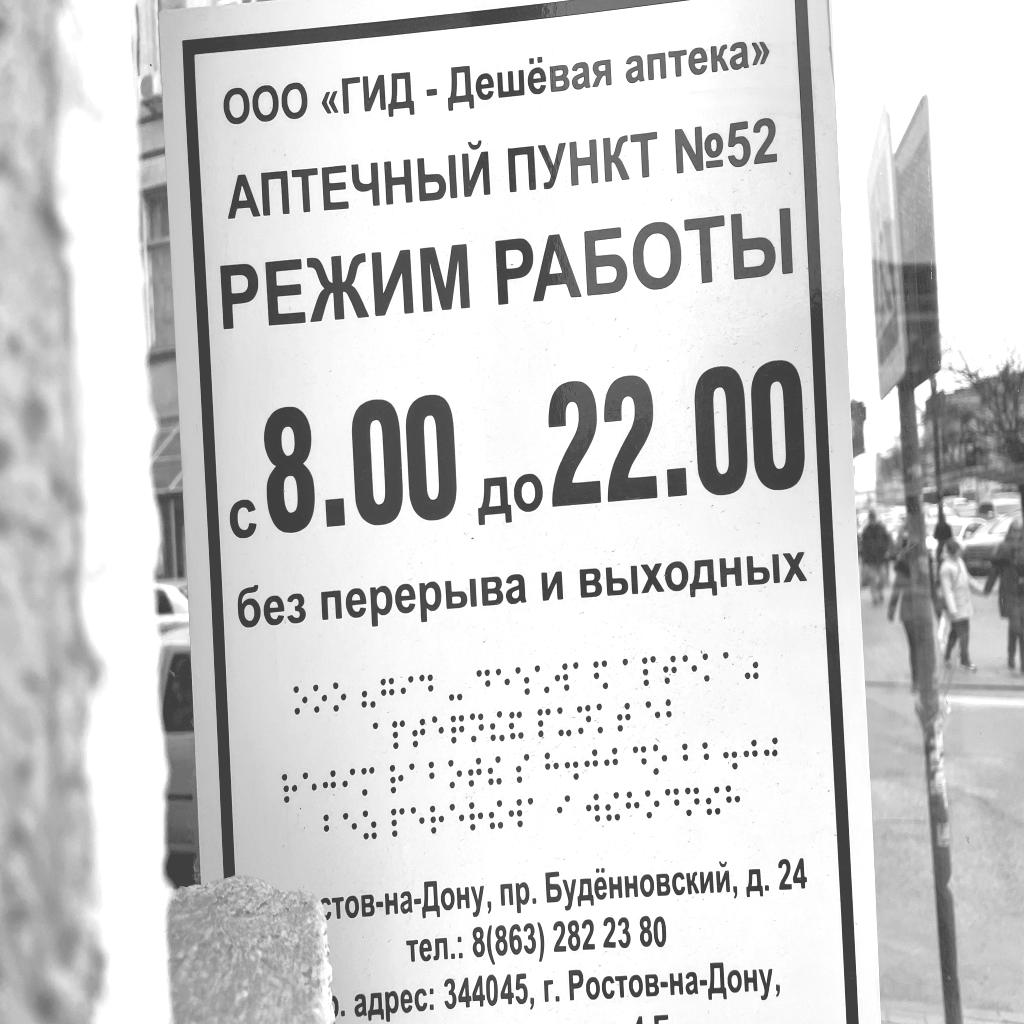_n: (576, 704, 592, 736), (469, 712, 485, 743), (685, 786, 701, 817)
_y: (557, 705, 573, 738)
a: (409, 762, 425, 794), (722, 651, 738, 682), (372, 721, 387, 752), (573, 661, 588, 691), (622, 657, 637, 687), (527, 796, 542, 826)
b: (428, 760, 444, 792), (324, 814, 339, 844)
ch: (450, 714, 465, 745)
d: (632, 745, 648, 776), (419, 673, 434, 704), (476, 668, 491, 699), (665, 787, 680, 818)
defis: (448, 671, 464, 702)
e: (302, 771, 318, 805), (682, 653, 698, 685), (449, 802, 465, 833), (410, 805, 425, 836), (343, 813, 358, 843), (495, 668, 510, 697), (431, 715, 445, 745)
g: (380, 677, 396, 708)
gh: (322, 769, 337, 801)
i: (399, 675, 414, 706), (342, 767, 356, 800), (557, 794, 571, 824)
iKratkoe: (509, 710, 525, 741)
ii: (489, 710, 505, 743), (706, 785, 722, 817), (487, 755, 503, 786), (489, 799, 505, 830), (605, 791, 621, 822)
k: (596, 702, 612, 735), (702, 652, 718, 684)
kavichki1: (361, 677, 376, 710)
kavichki2: (745, 648, 760, 681)
m: (361, 766, 377, 798)
o: (652, 743, 668, 776), (644, 789, 661, 820), (292, 684, 308, 716), (447, 759, 463, 790), (332, 681, 347, 714), (313, 683, 328, 715)
p: (641, 655, 657, 689), (391, 719, 406, 751), (391, 807, 406, 838), (537, 708, 551, 739)
r: (389, 764, 405, 797), (281, 773, 298, 804), (429, 804, 445, 835), (468, 801, 484, 832)
s: (515, 753, 530, 785)
sh: (515, 665, 531, 696)
t: (411, 717, 426, 750), (616, 702, 631, 734), (468, 757, 483, 788), (663, 654, 677, 686)
tochka: (564, 749, 579, 781), (723, 739, 738, 771)
v: (554, 662, 571, 693), (585, 793, 601, 823), (508, 798, 523, 828)
x: (725, 784, 741, 816), (625, 790, 640, 821)
ya: (593, 659, 610, 691)
yo: (534, 664, 550, 694)
z: (363, 810, 378, 841)
